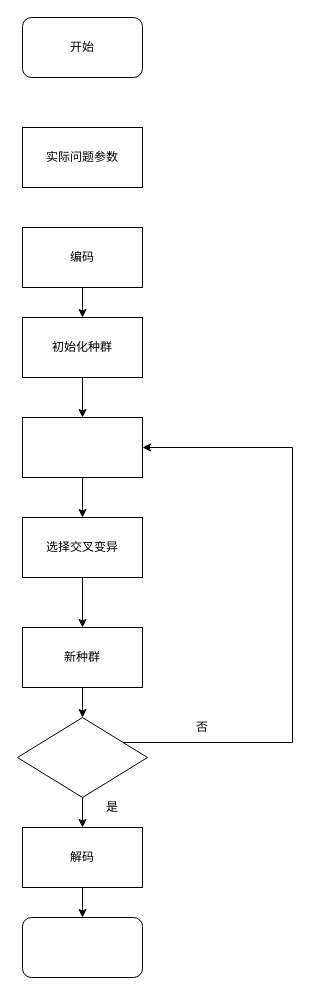
The diagram is 318 pixels wide and 995 high, and some of its shapes have lost their labels. The centre of each missing label's shape, as x and y in pixels:
"是否求解完毕" goes at (82,757).
"结束" goes at (82,947).
"计算适应值" goes at (82,447).
